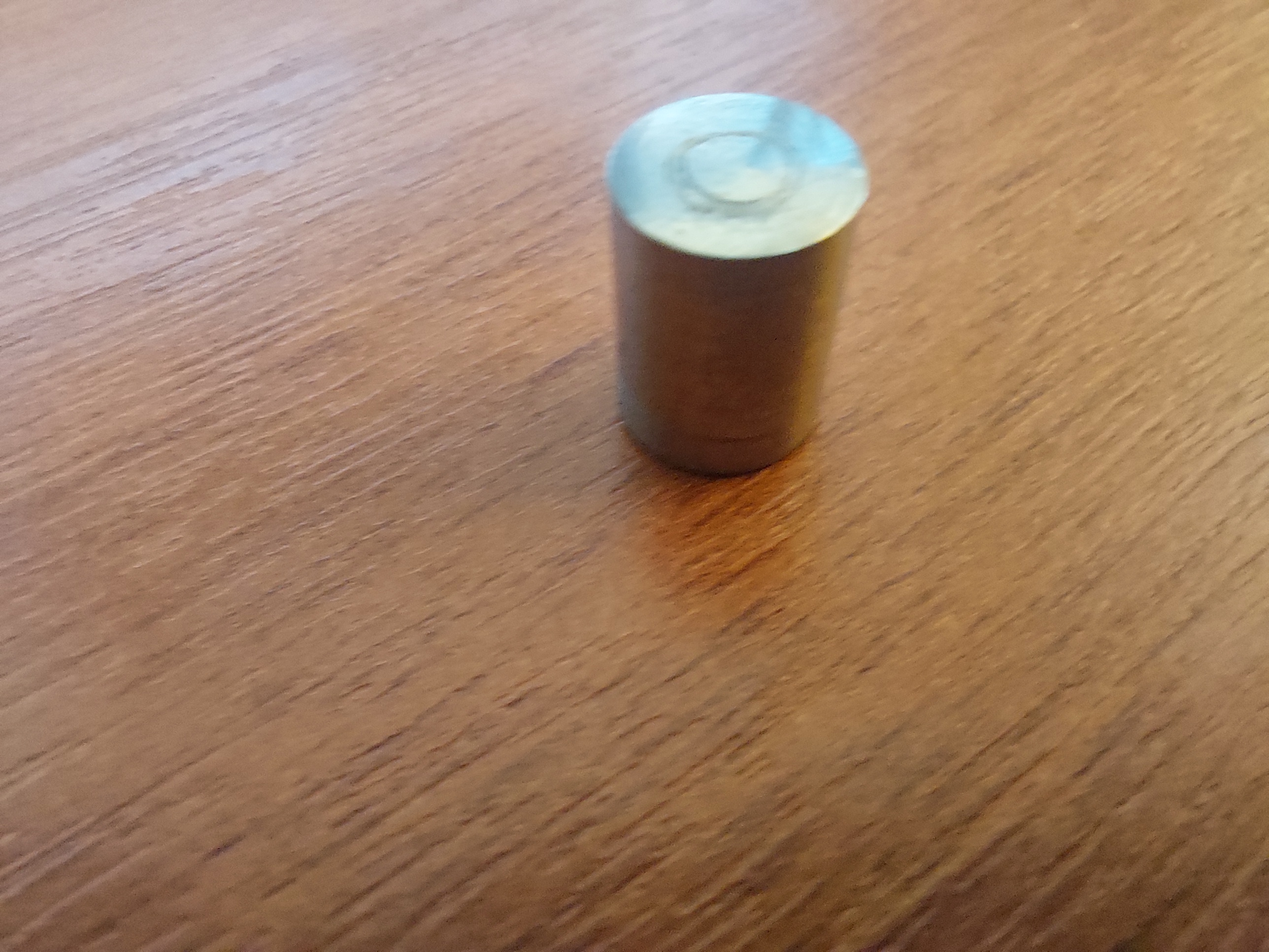tablet: (570, 79, 927, 513)
